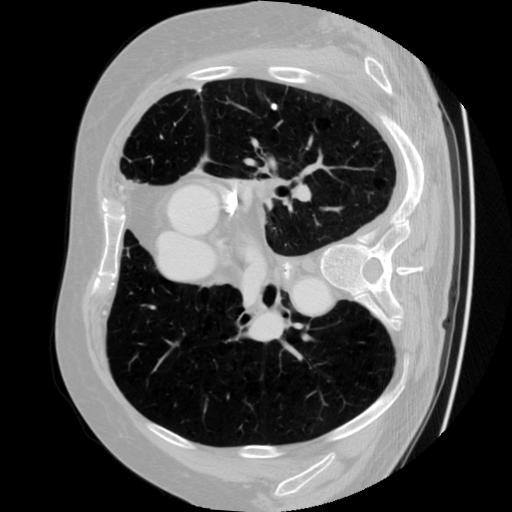nodule: (268, 100, 281, 113)
